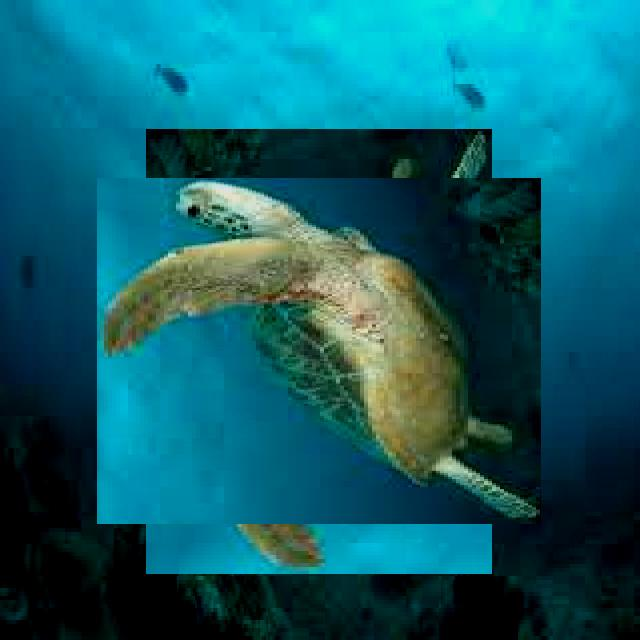Sea turtle: (121, 154, 517, 549)
